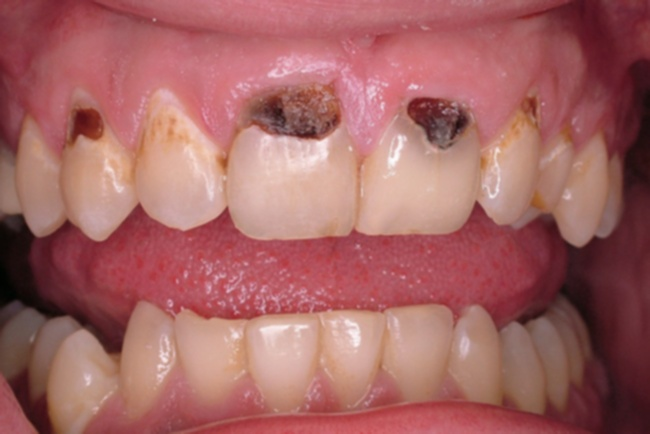karies: (254, 85, 342, 139), (399, 95, 477, 147), (66, 103, 104, 140), (513, 89, 547, 120), (213, 148, 236, 173)
